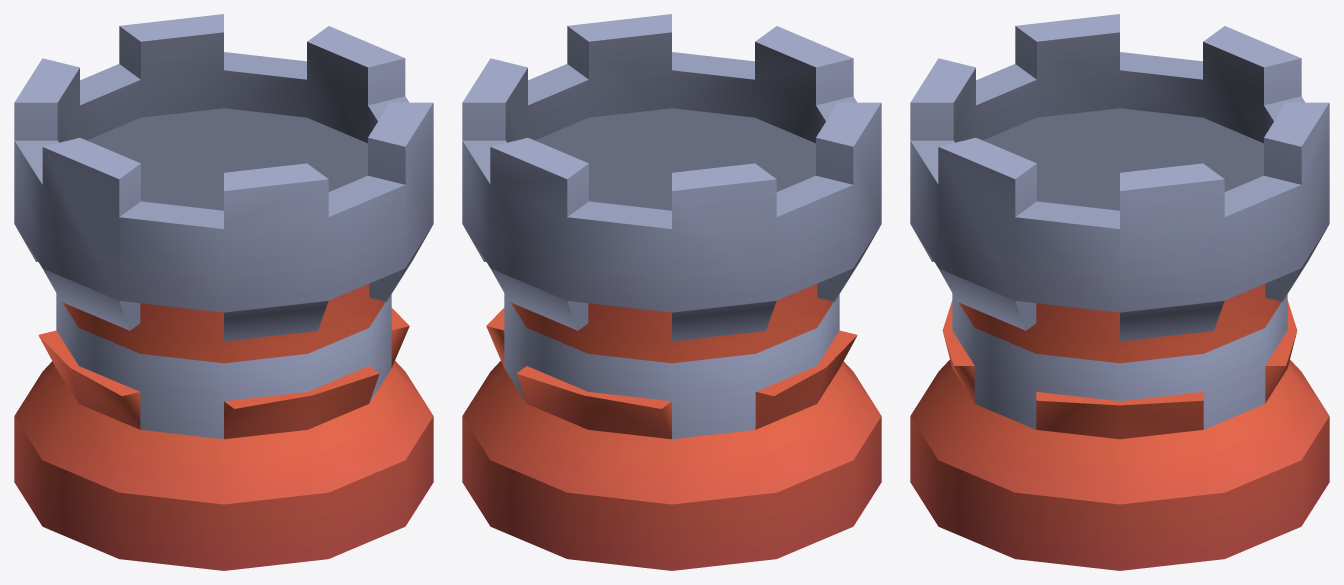
File: kenney-tower-defense-tower-round-build-c.glb
3 renders of one model, left to right at view 1: azimuth 30°, elevation 25°; view 2: azimuth 150°, elevation 25°; view 3: azimuth 270°, elevation 25°, orthographic.
Visible parts, largest first — view 1: tower-round-build-c; view 2: tower-round-build-c; view 3: tower-round-build-c.
Part boxes in pixels (<box>): tower-round-build-c: <box>14,14,433,570</box>; tower-round-build-c: <box>462,14,881,570</box>; tower-round-build-c: <box>910,14,1329,570</box>.
Bounding box in the file's own units: 1 × 1 × 1.
Materials: 1 (1 with a texture image).
